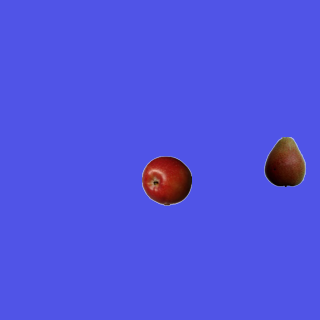Apple Braeburn: (141, 155, 191, 205)
Pear Forelle: (259, 136, 309, 186)
